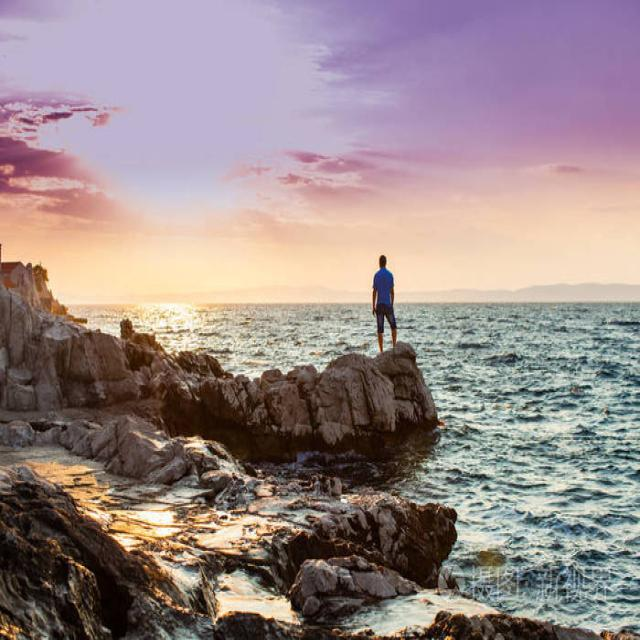reef: (187, 335, 434, 472)
